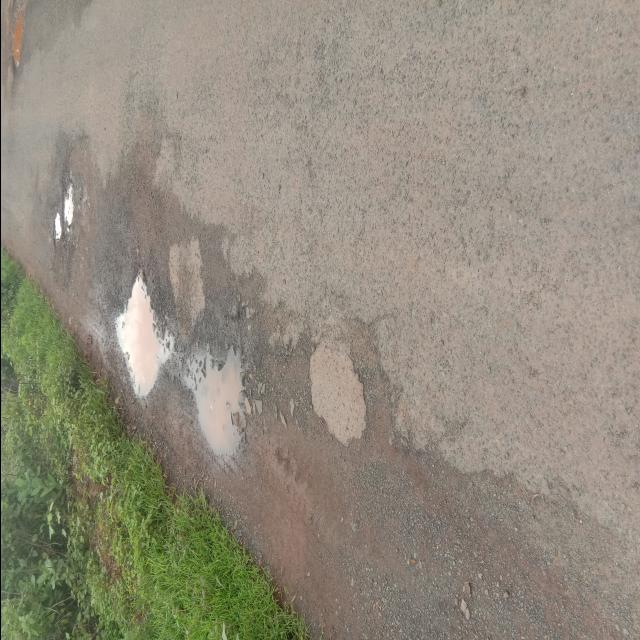potholes: (300, 312, 388, 482), (176, 328, 259, 464), (110, 266, 182, 402), (59, 184, 79, 230), (50, 212, 61, 245)
